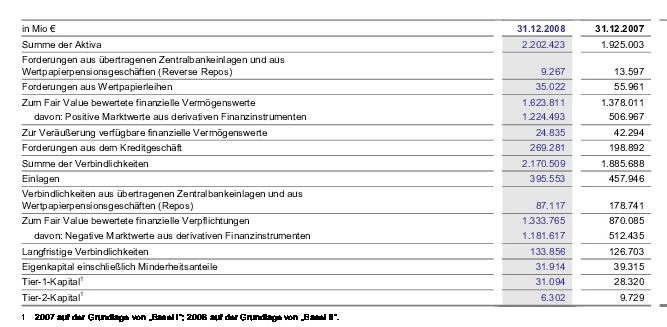table: (0, 0, 667, 327)
